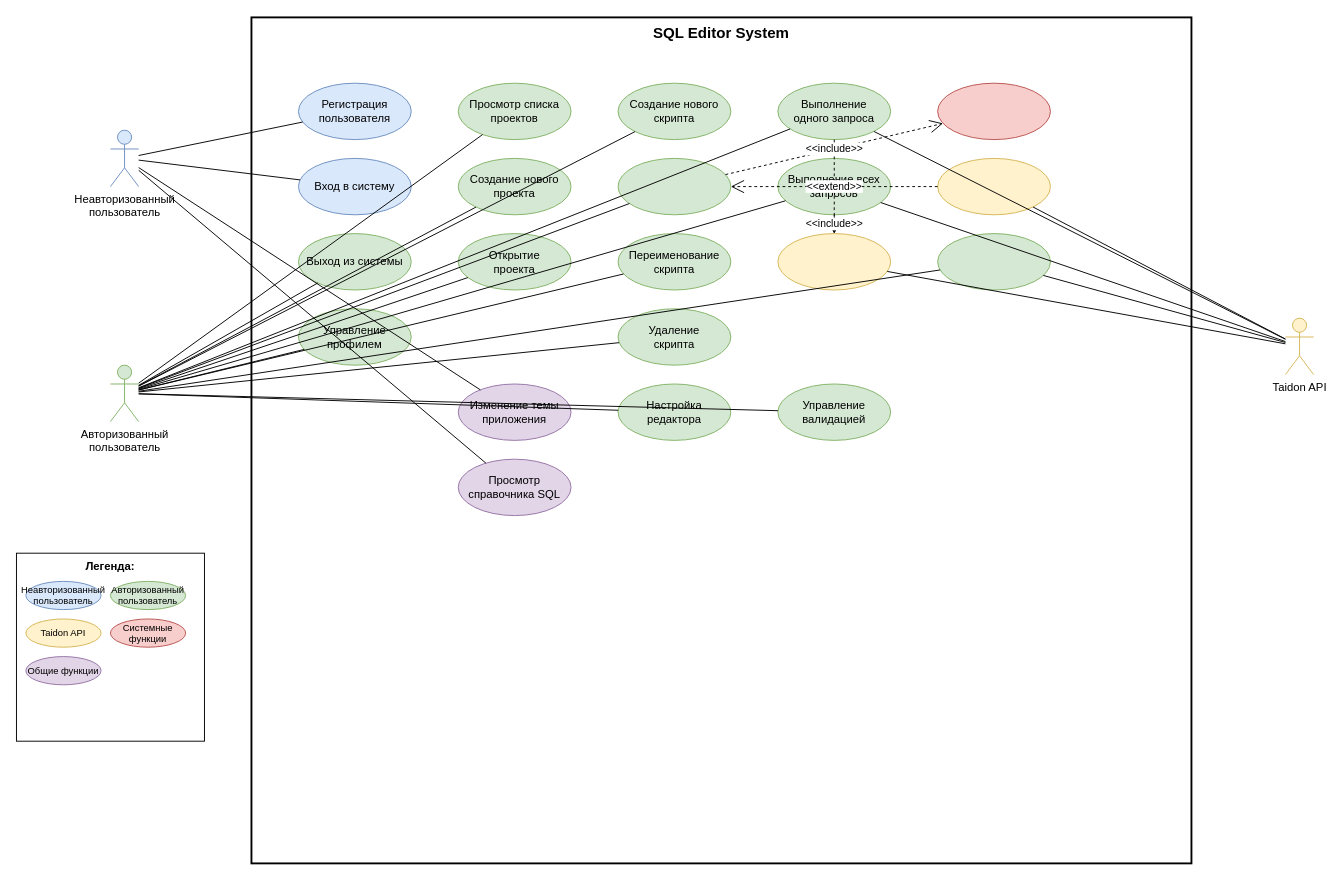
The diagram is 1342 pixels wide and 880 high, and some of its shapes have lost their labels. Each missing label, with the centre of its shape:
Бэкенд валидация SQL: [993,186]
Локальная валидация SQL: [993,111]
Подготовка PostgreSQL инстанса: [834,261]
Проверка подключения к бэкенду: [993,261]
Редактирование скрипта: [674,186]
